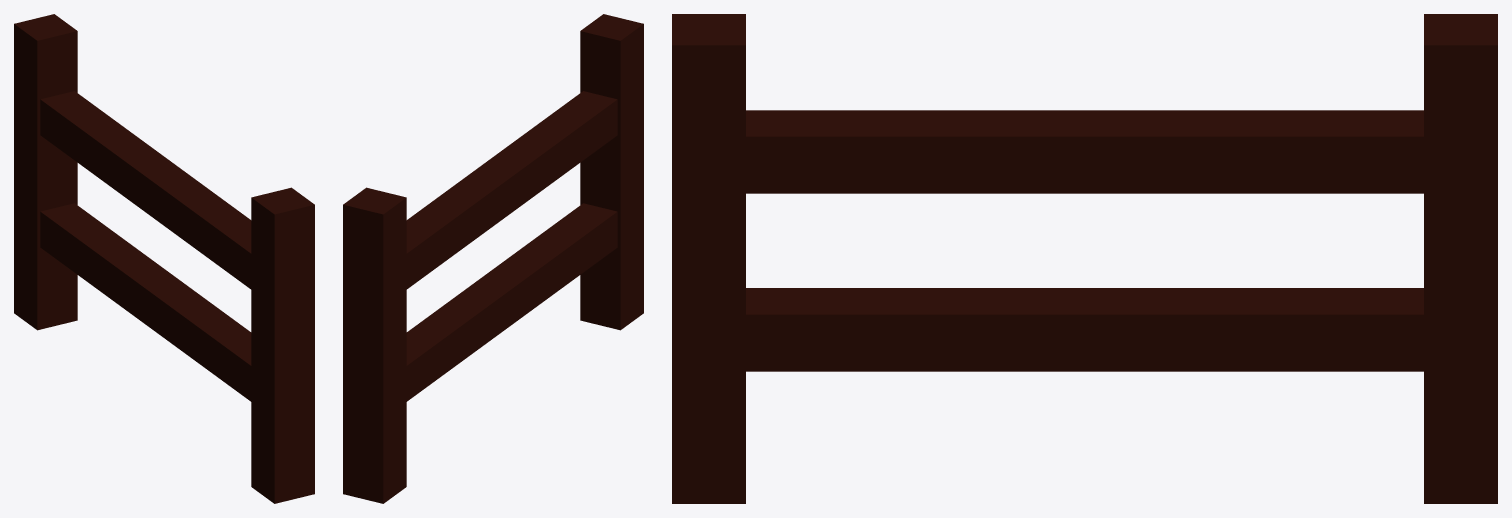
The model's file is Fence.fbx.
3 renders of one model, left to right at view 1: azimuth 30°, elevation 25°; view 2: azimuth 150°, elevation 25°; view 3: azimuth 270°, elevation 25°, orthographic. The views are drawn at different scales.
Parts seen in each view (by area): view 1: Fence_Basic_01; view 2: Fence_Basic_01; view 3: Fence_Basic_01.
Boxes of the visible parts, x1,y1,x2,y2 form: Fence_Basic_01: [14, 14, 314, 503]; Fence_Basic_01: [343, 14, 643, 503]; Fence_Basic_01: [672, 14, 1497, 503].
Bounding box in the file's own units: 61.49 × 422 × 688.
